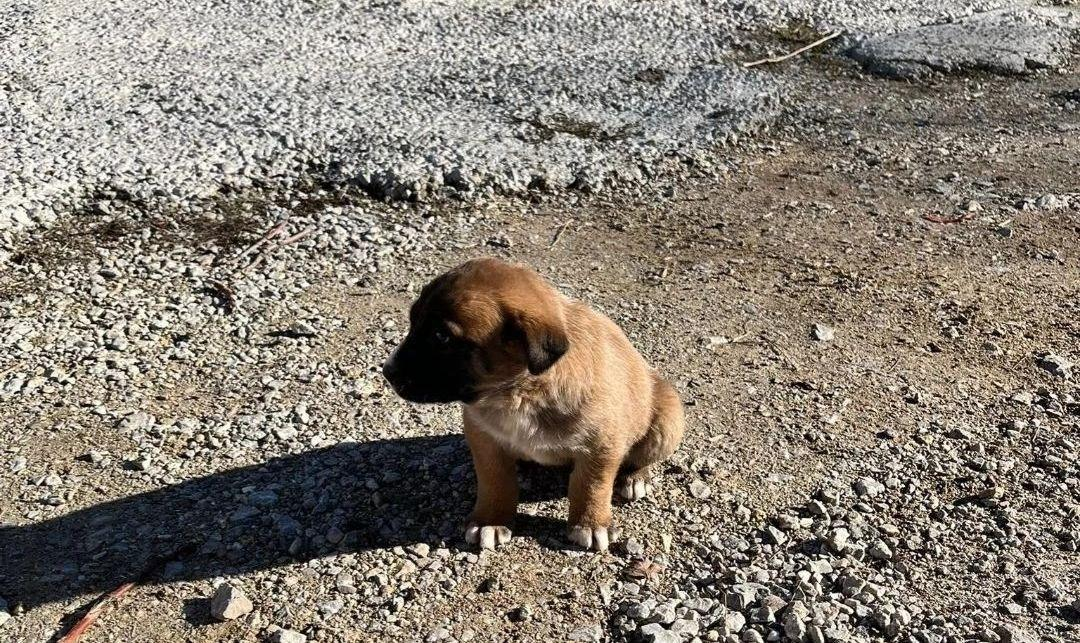puppy-dog: (381, 253, 688, 554)
